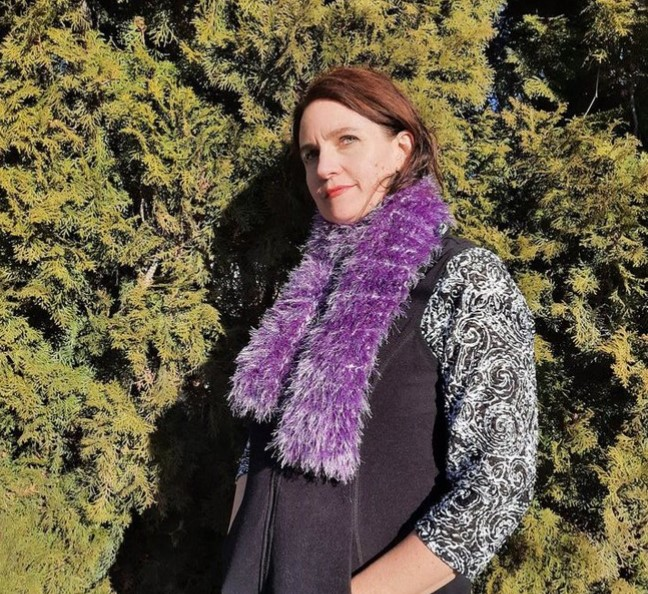face_no_mask: (295, 72, 411, 223)
